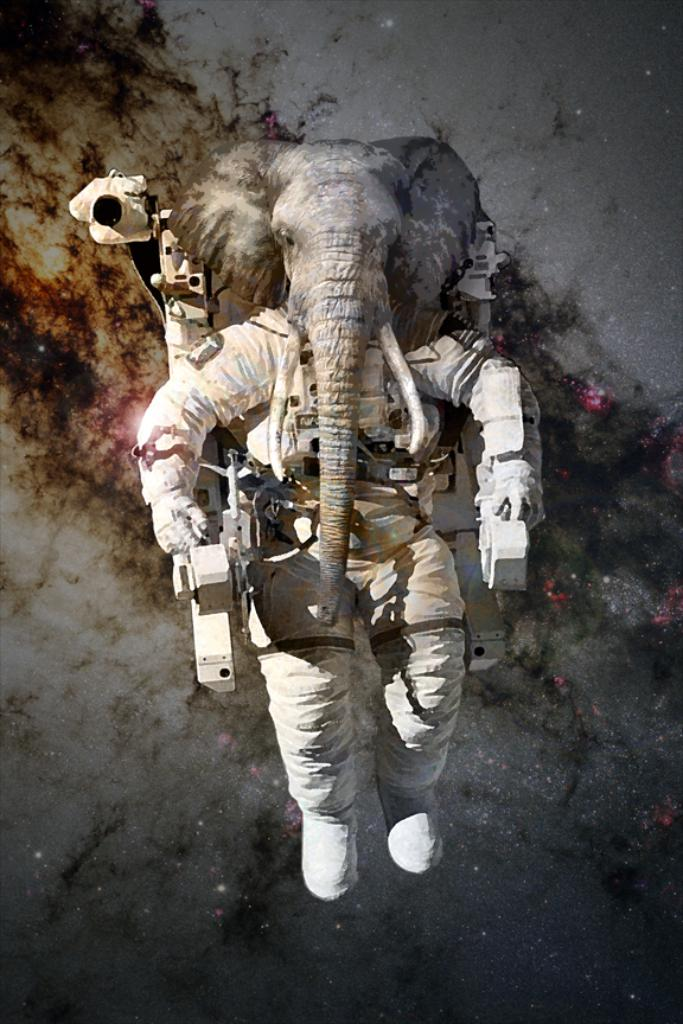Person: (131, 135, 540, 901)
